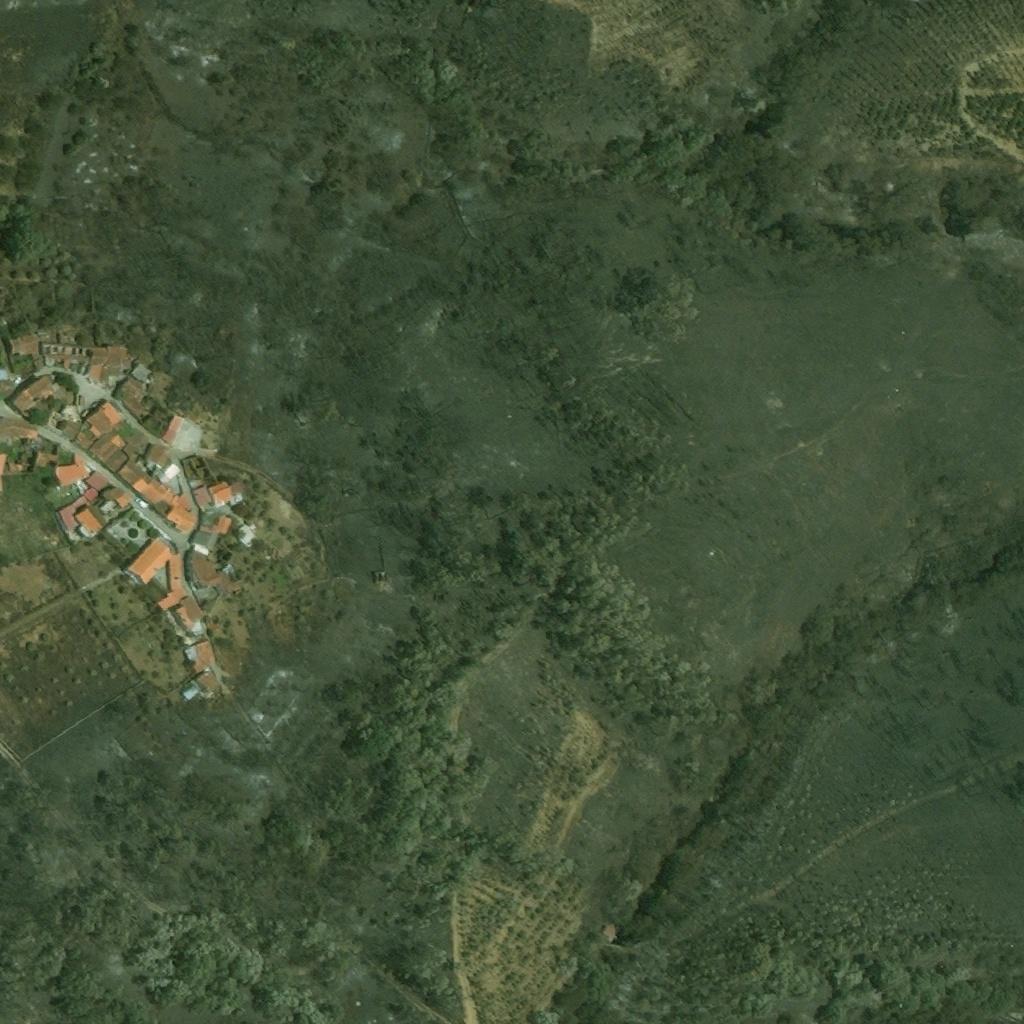0 no-damage: (126, 537, 190, 612), (186, 548, 255, 595), (117, 459, 170, 506), (10, 374, 62, 413), (154, 488, 198, 534), (59, 496, 106, 538), (88, 429, 128, 473), (114, 376, 150, 424), (162, 414, 203, 453), (85, 401, 126, 438), (180, 666, 222, 702), (199, 474, 245, 506), (8, 333, 43, 372), (189, 523, 228, 558), (42, 408, 82, 440), (182, 638, 218, 673), (55, 453, 87, 487), (88, 486, 133, 510), (0, 418, 39, 445), (174, 595, 204, 630), (123, 431, 149, 457), (145, 444, 171, 468), (595, 923, 619, 948), (191, 484, 214, 510), (235, 523, 257, 549), (193, 586, 218, 602), (130, 364, 151, 383), (215, 514, 233, 534), (86, 472, 105, 490), (76, 432, 93, 450), (163, 463, 181, 479), (0, 380, 16, 395), (0, 454, 8, 477), (82, 488, 95, 500), (0, 370, 8, 380)
2 major-damage: (35, 450, 59, 467)
3 destroyed: (39, 341, 129, 384), (264, 545, 284, 561), (8, 461, 28, 472), (382, 574, 391, 584)
